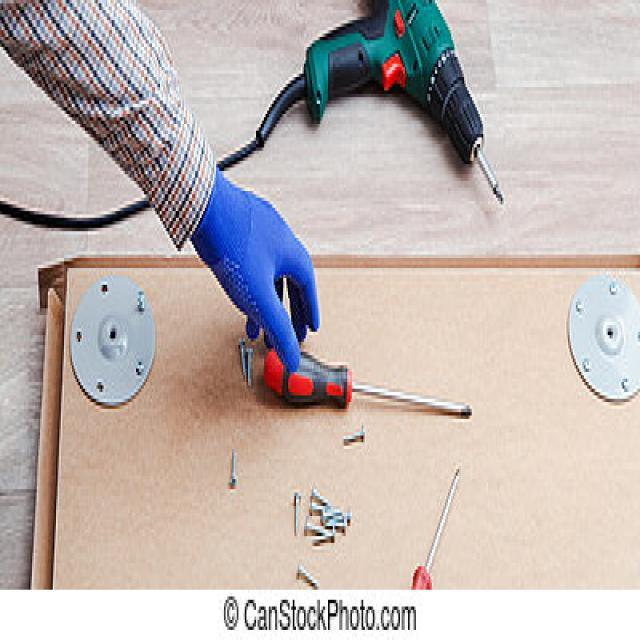screwdriver: (260, 338, 474, 422)
